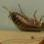cockroach: (9, 11, 44, 32)
